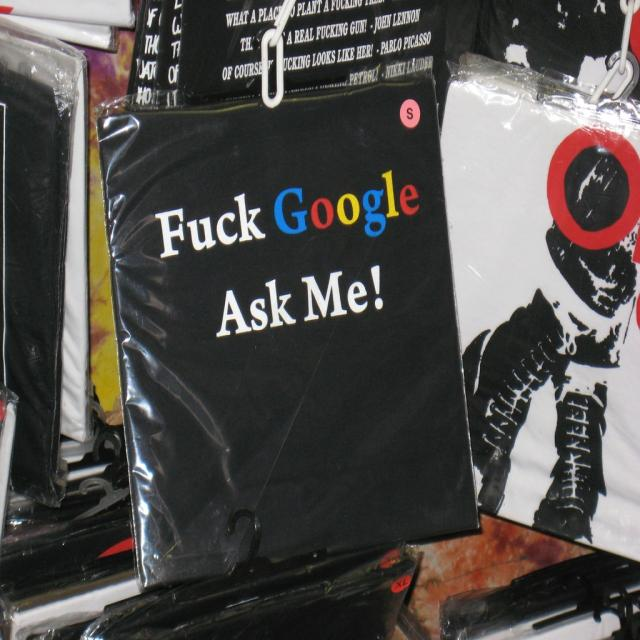google: (274, 167, 425, 242)
